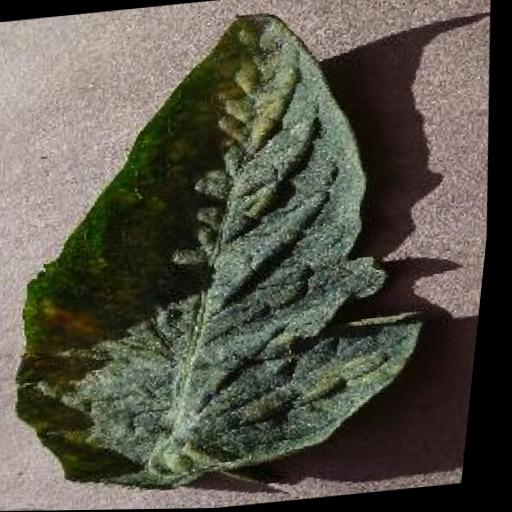Spider Mites: (0, 0, 464, 501)
